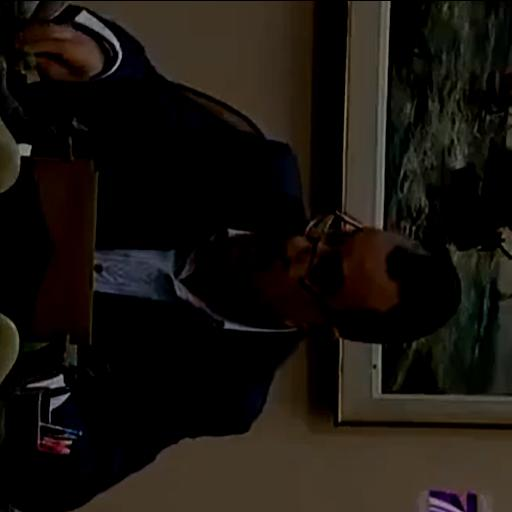slimane: (193, 219, 459, 342)
